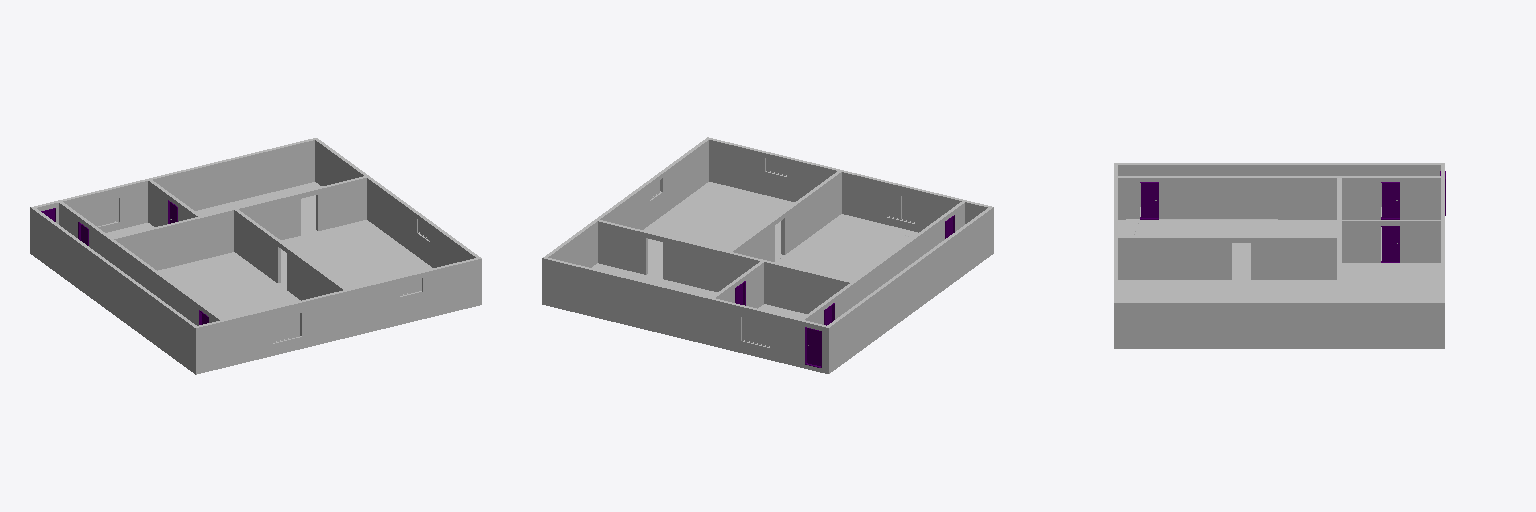
The model's file is killhouse_frame.obj.
3 views of the same model, side by side, from view 1: azimuth 30°, elevation 25°; view 2: azimuth 150°, elevation 25°; view 3: azimuth 270°, elevation 25° (orthographic).
Parts seen in each view (by area): view 1: BODY_Cube; view 2: BODY_Cube; view 3: BODY_Cube.
Part boxes in pixels (bbox=[...]): BODY_Cube: bbox=[30, 138, 481, 374]; BODY_Cube: bbox=[542, 137, 993, 373]; BODY_Cube: bbox=[1114, 163, 1445, 348].
Size of the model in its own units: 20 by 3.1 by 20.05.